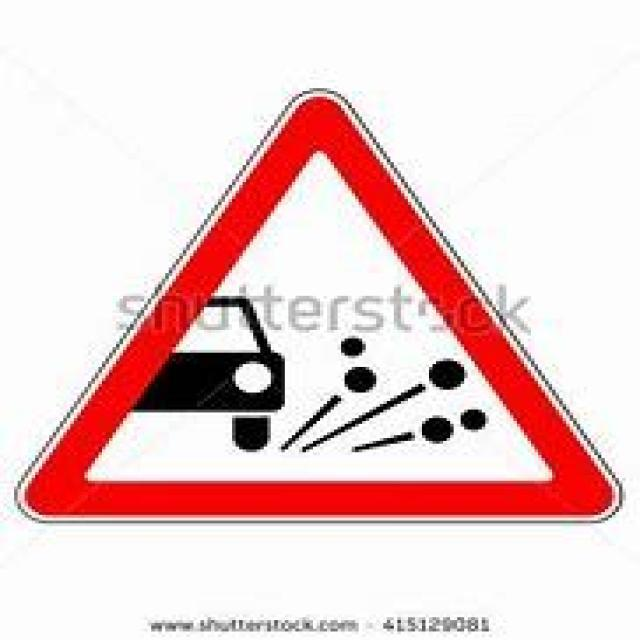loose gravel: (20, 88, 616, 524)
